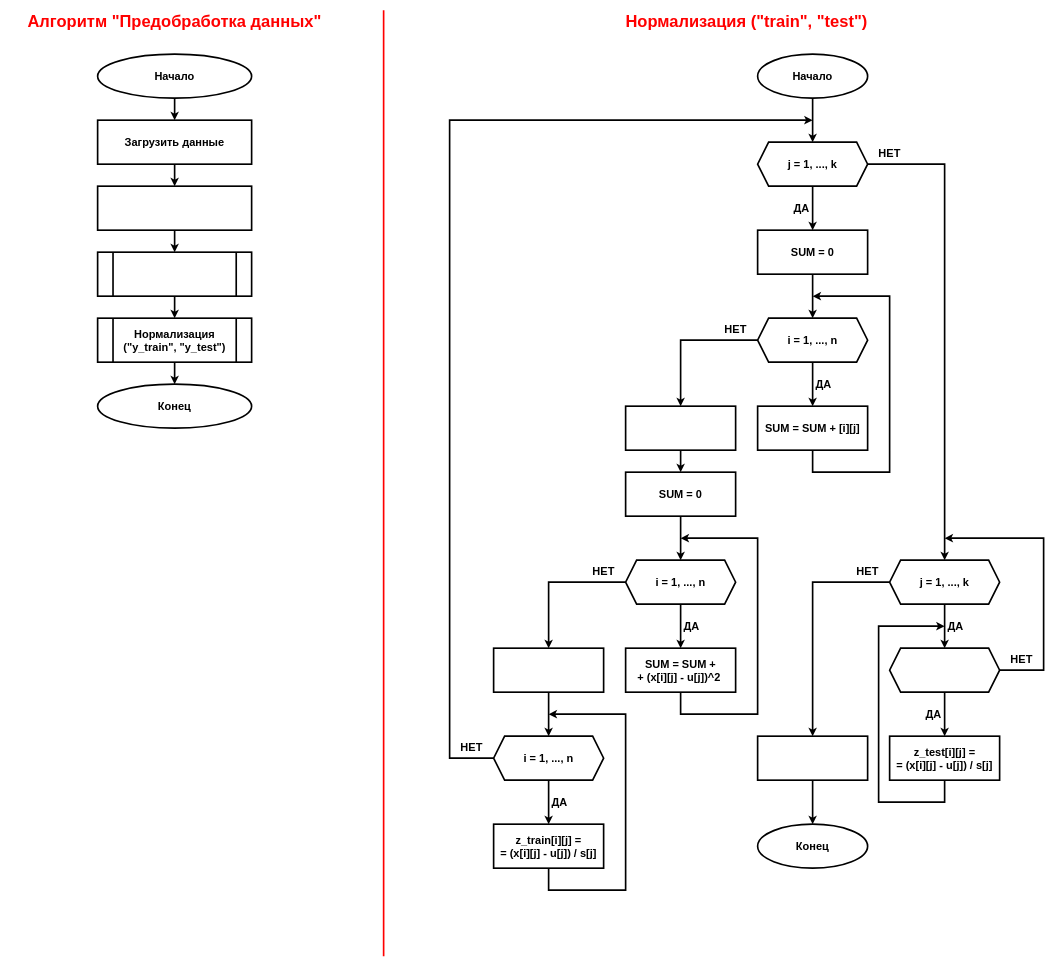
This 1058x967 diagram has some shape labels left out. Here are the shapes that lost their labels. From the top down, the centre of each, then its label:
pixel 174 208: Разделить данные
pixel 174 274: Нормализация ("X_train", "X_test")
pixel 680 428: u[j] = SUM / n
pixel 548 670: s[j] = (SUM / n)^0.5
pixel 944 670: i = 1, ..., m
pixel 812 758: Вернуть z_train, z_test
